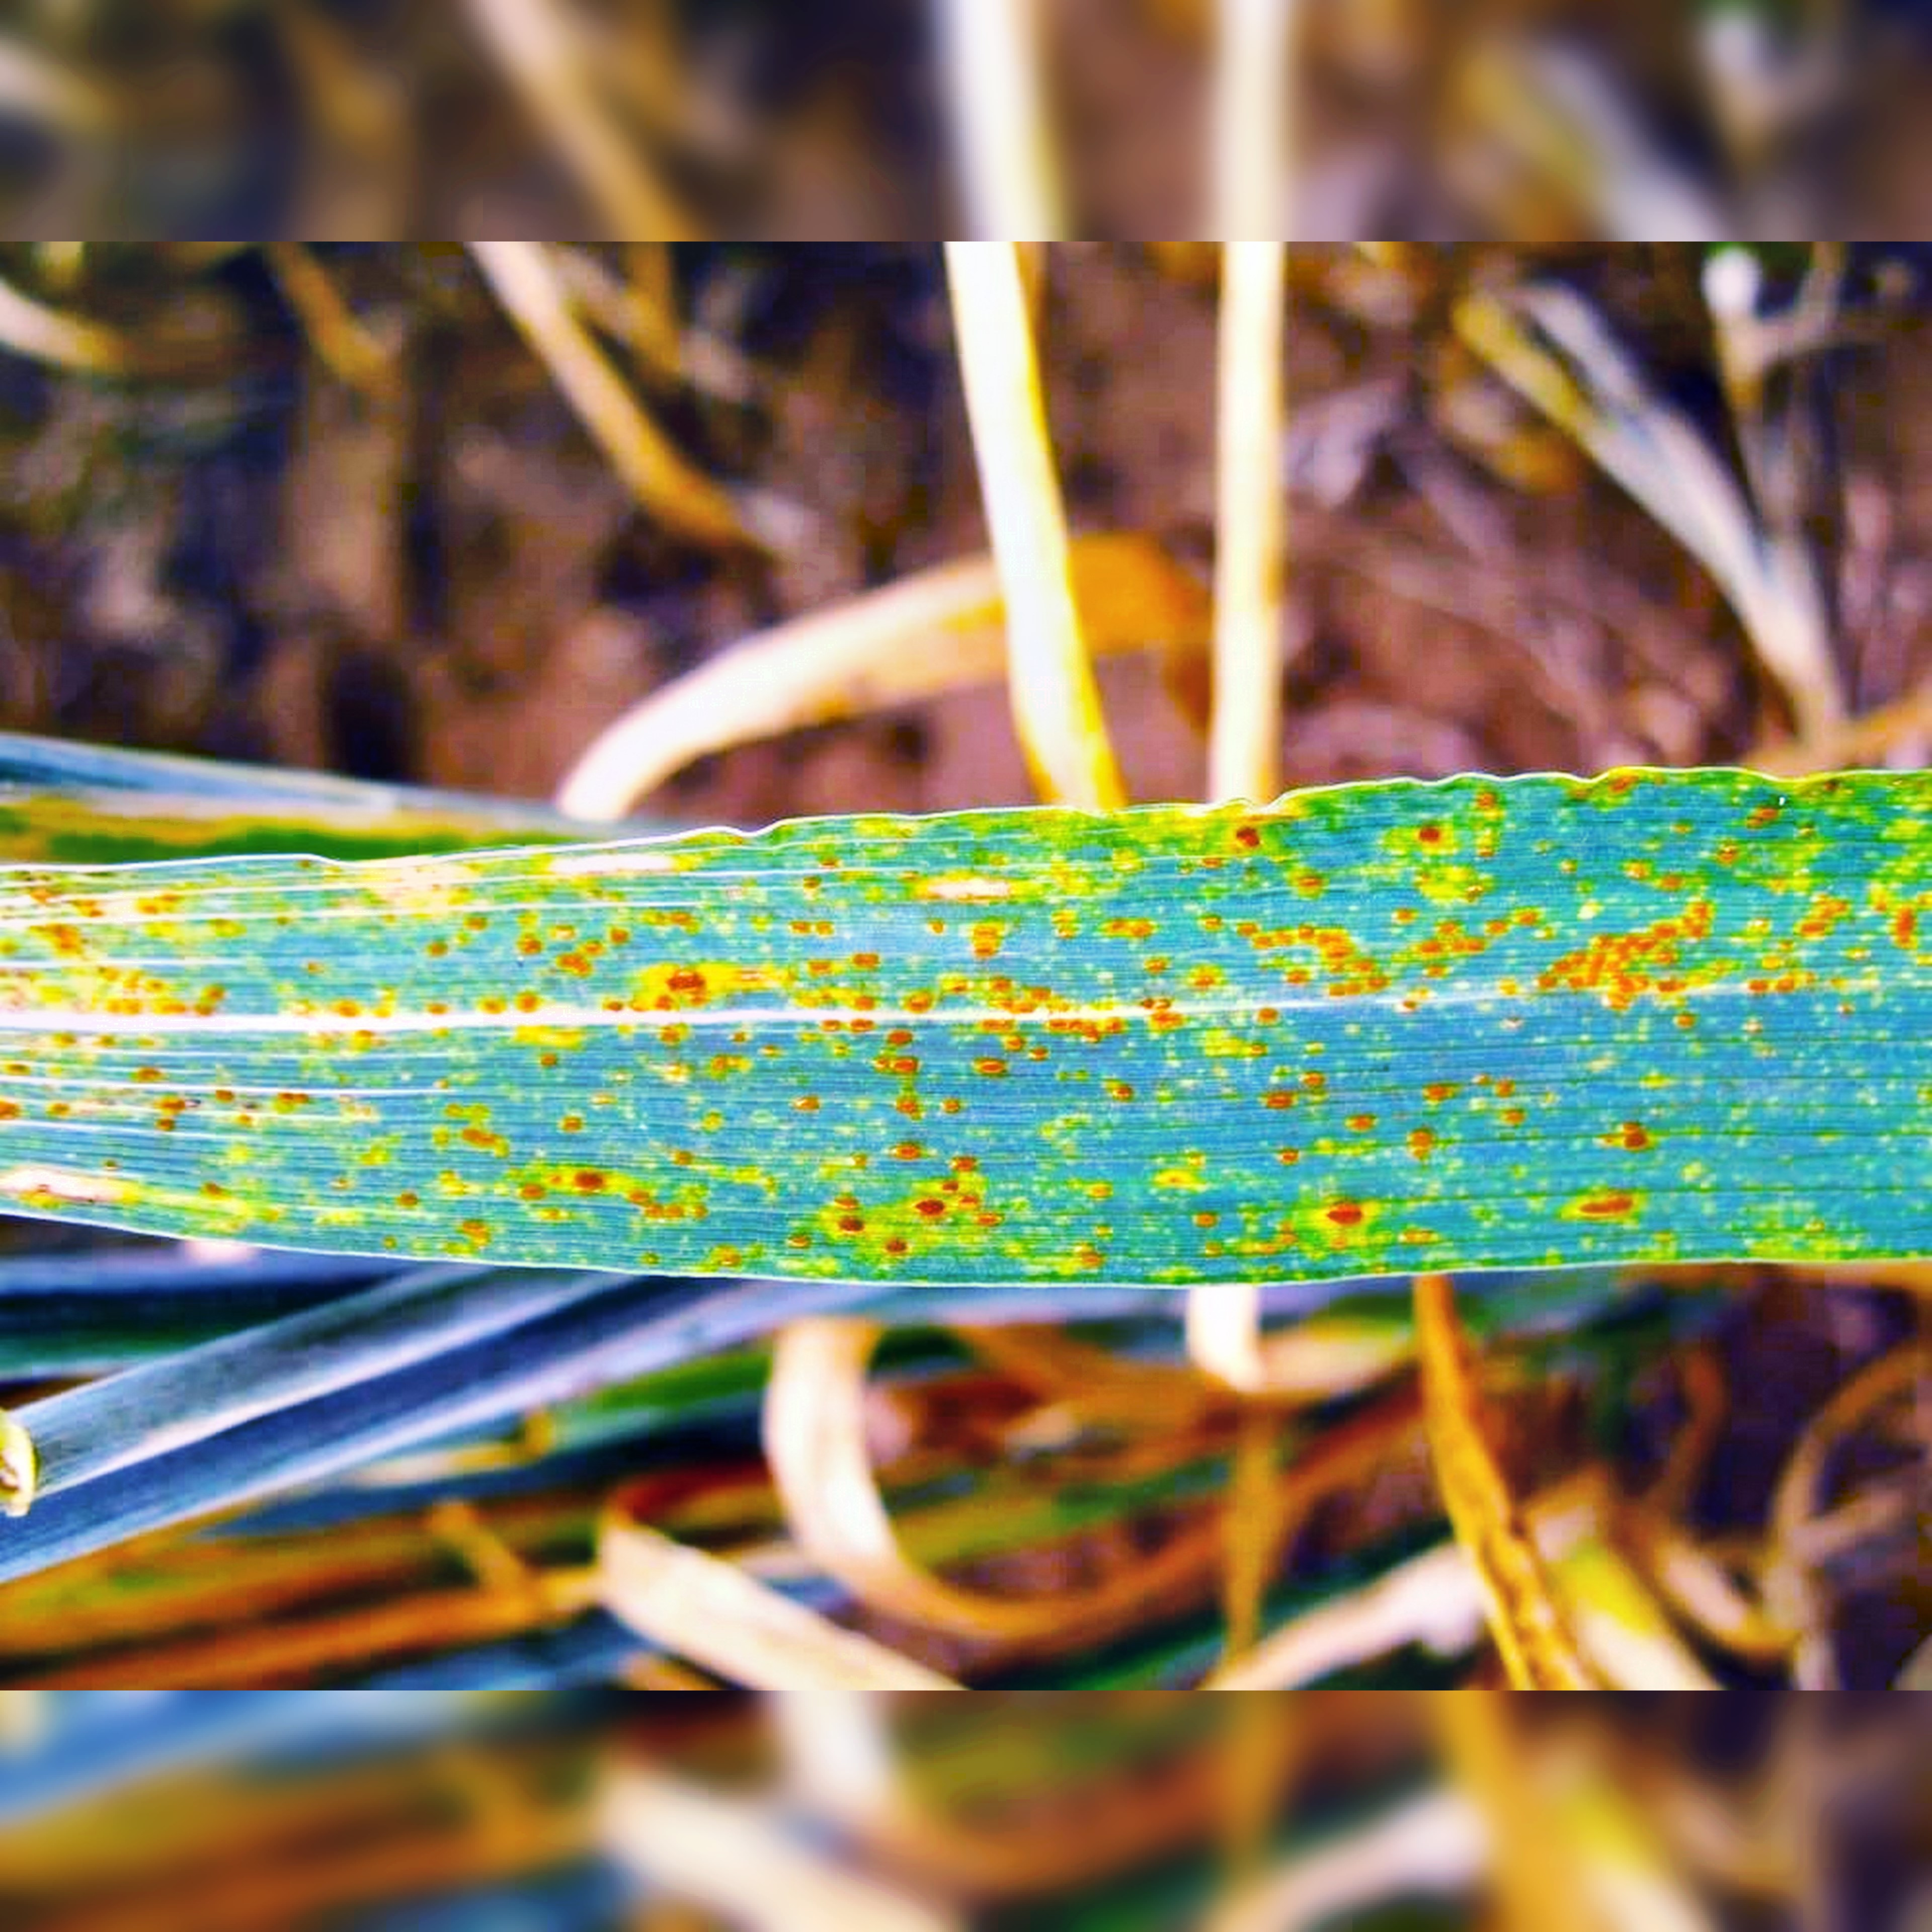Leaf Rust: (117, 766, 1828, 1307)
